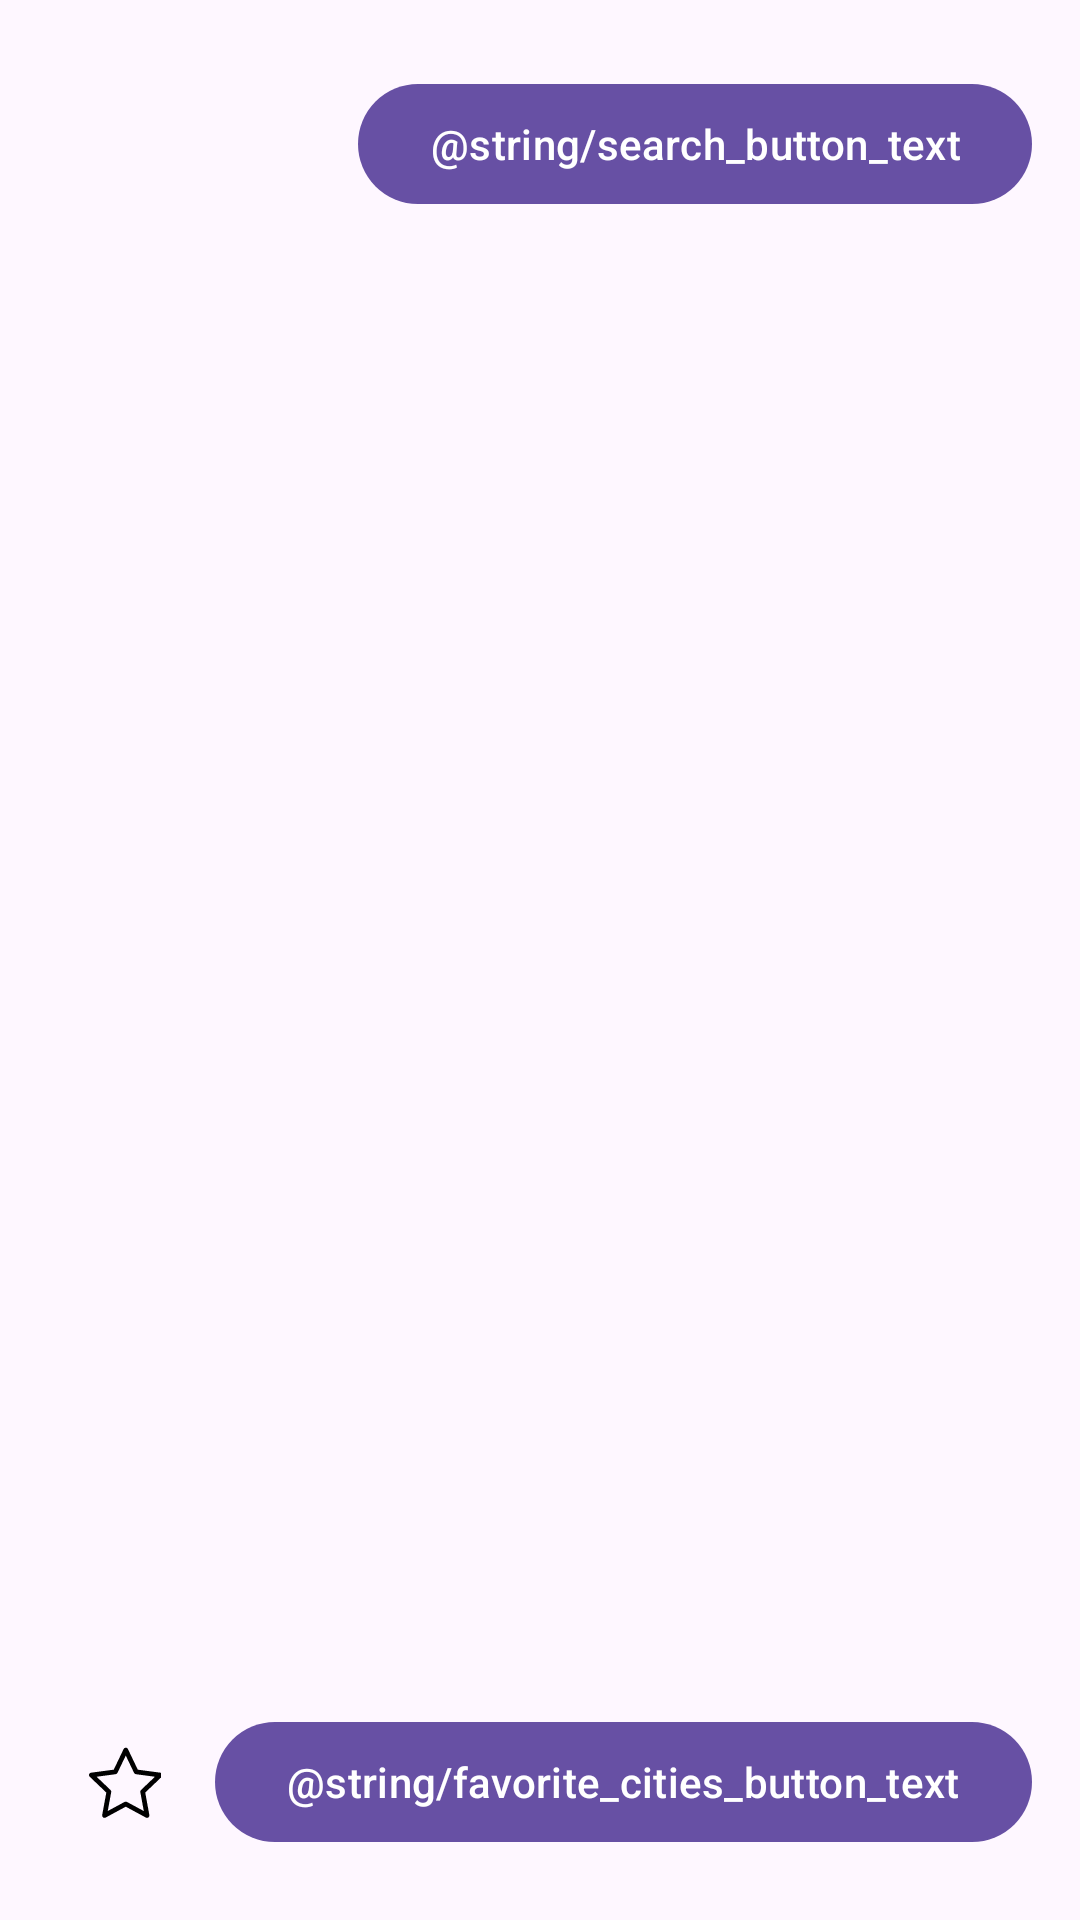

Point at icon controls on the screen. Image size 1080w x 1920h, points as point (x, y).
favorite unchecked: point (125, 1782)
